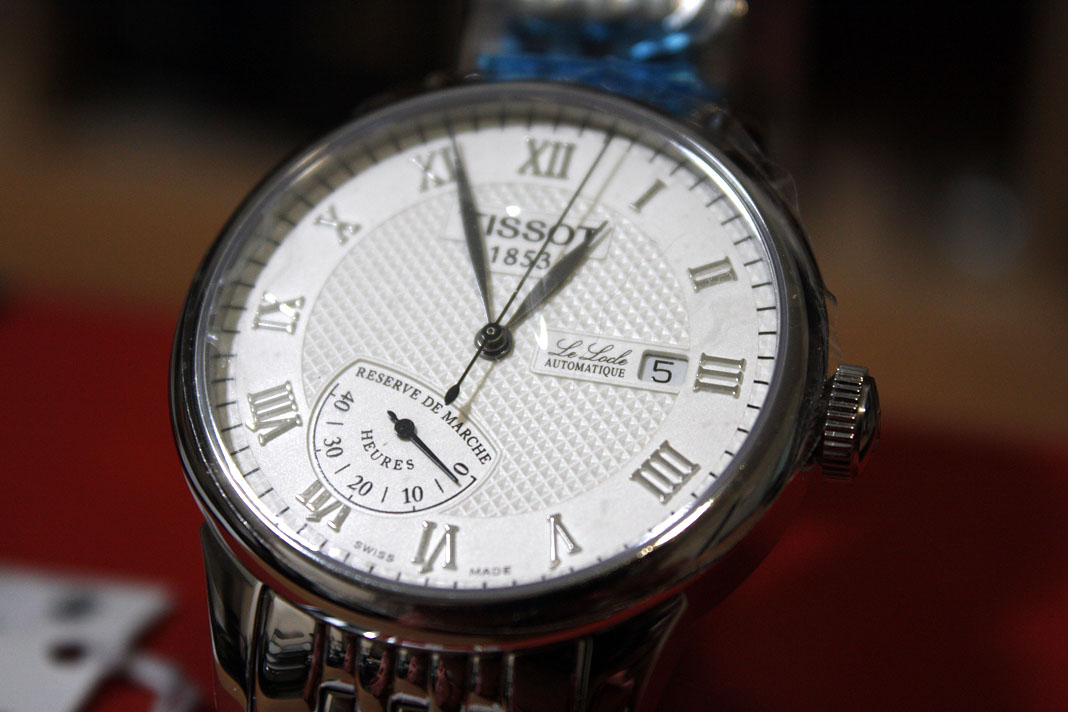clock: (169, 80, 839, 651)
